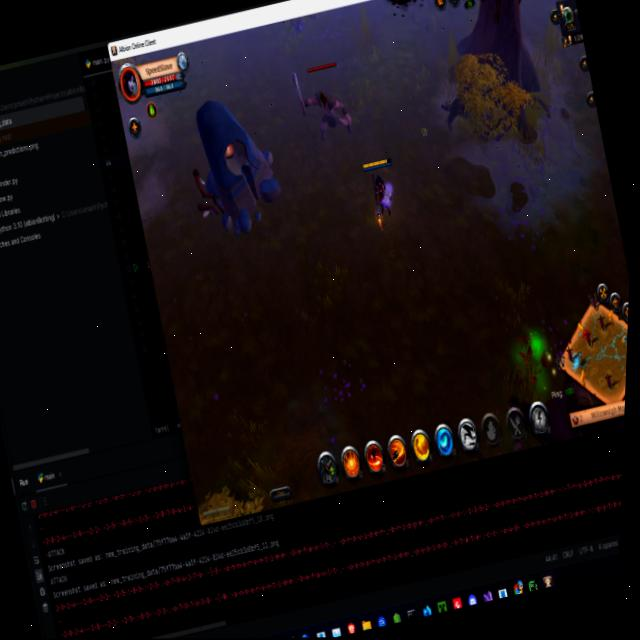ore: (278, 46, 370, 160)
red: (355, 152, 411, 238)
